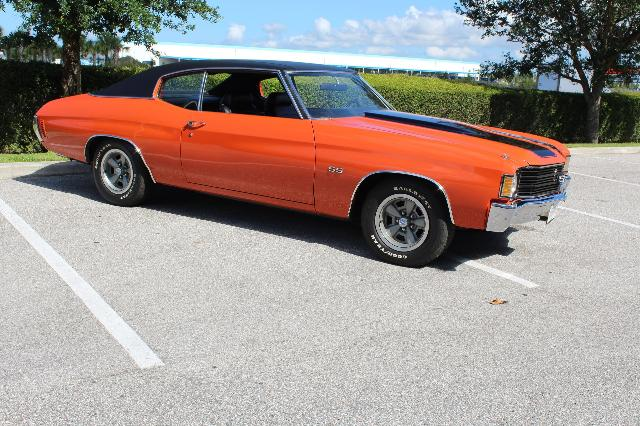chevelle-1972: (35, 60, 570, 266)
